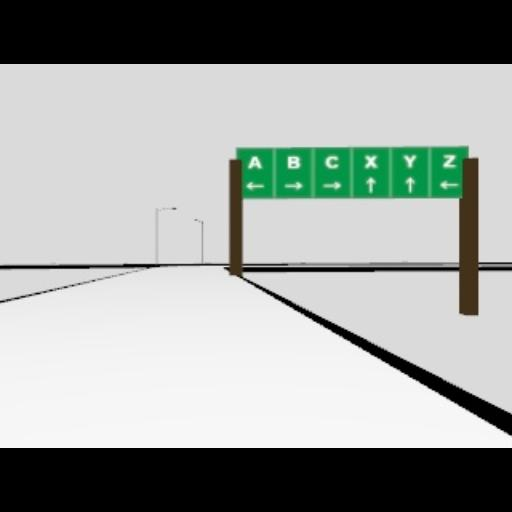A: (247, 156, 261, 168)
B: (287, 156, 301, 168)
C: (323, 154, 339, 168)
Left: (438, 181, 460, 189), (244, 181, 264, 189)
Right: (282, 181, 302, 189), (322, 181, 340, 189)
Straight: (364, 176, 376, 192), (405, 176, 415, 194)
X: (363, 154, 377, 168)
Y: (402, 154, 416, 168)
Z: (442, 154, 456, 168)
